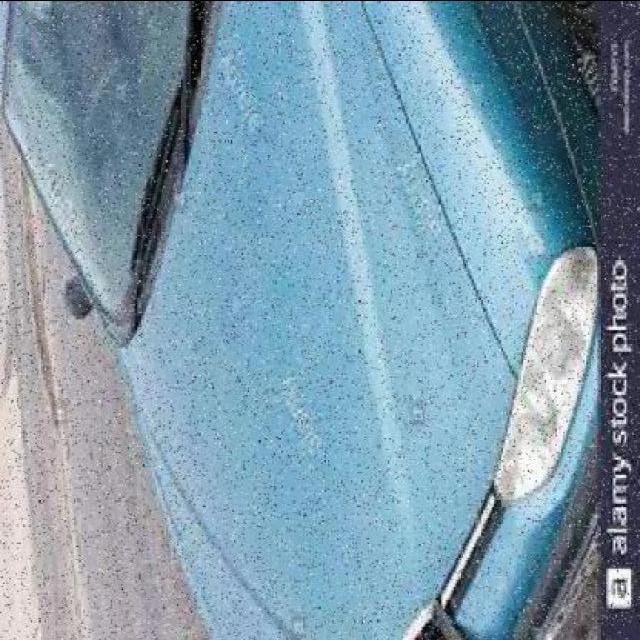bonnet-dent: (140, 119, 500, 640)
